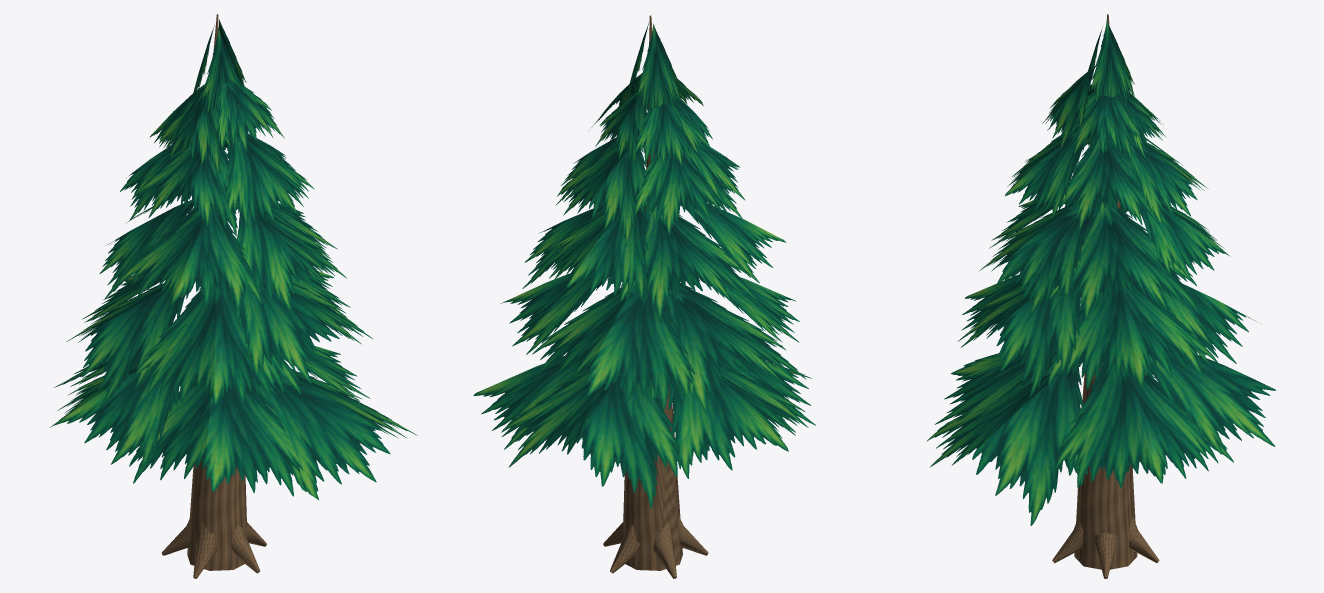
3 renders of one model, left to right at view 1: azimuth 30°, elevation 25°; view 2: azimuth 150°, elevation 25°; view 3: azimuth 270°, elevation 25°, orthographic.
Visible parts, largest first — view 1: Tapered harvest trunk; view 2: Tapered harvest trunk; view 3: Tapered harvest trunk.
Part boxes in pixels (box(x1,y1,x2,y2)): Tapered harvest trunk: box(50, 14, 417, 578); Tapered harvest trunk: box(473, 15, 815, 578); Tapered harvest trunk: box(926, 14, 1275, 578).
Bounding box in the file's own units: 7.62 × 11.41 × 7.98.
3 materials, 2 textured.
